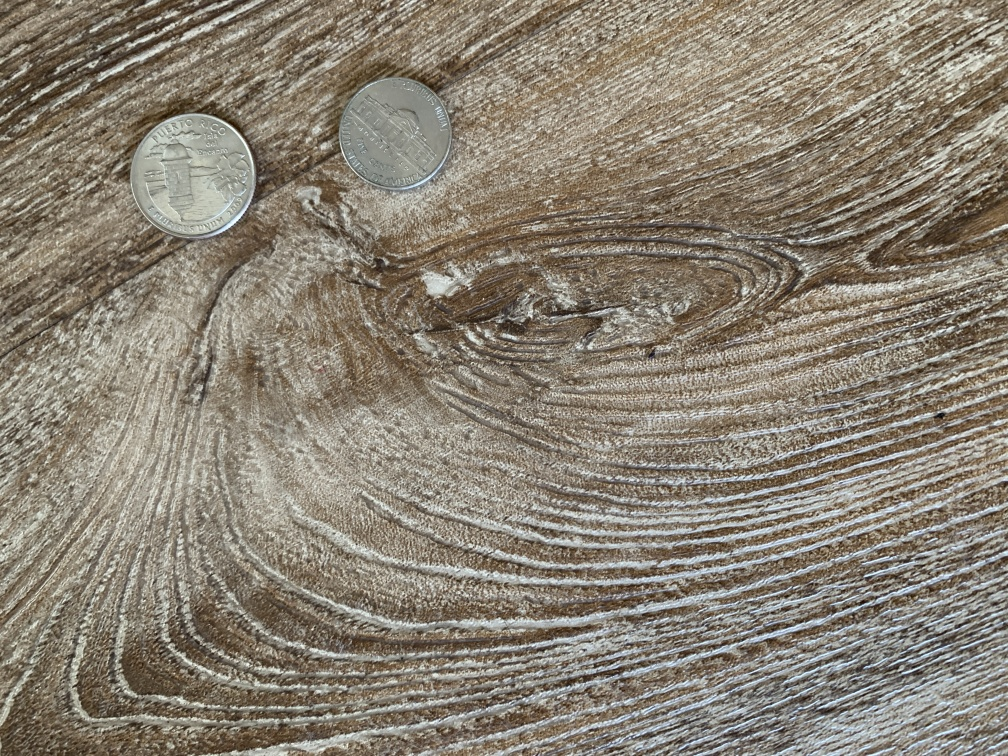nickel: (336, 73, 459, 190)
quarter: (127, 108, 260, 242)
